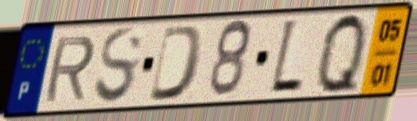8: (205, 18, 254, 102)
D: (145, 23, 207, 104)
L: (267, 16, 306, 98)
Q: (315, 10, 369, 98)
R: (41, 33, 98, 105)
S: (91, 25, 146, 108)
